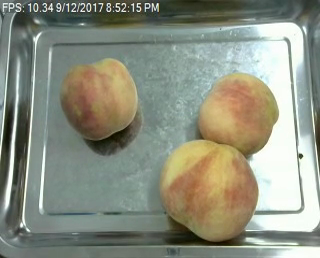Peach: (159, 138, 259, 243), (197, 71, 278, 155), (60, 58, 138, 141)
